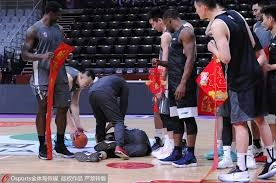falling: (72, 121, 154, 160)
